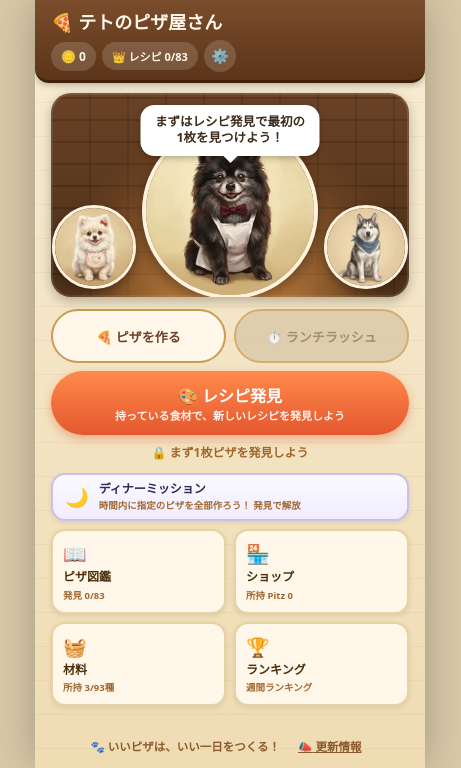
Test: HOME Global Overlay shell sizing (Dex/Shop/Inventory share one rule) › Dex overlay panel uses the shared shell: fixed header + one scrollable body, nothing else
Click the button "📖 ピザ図鑑 発見 0/83" at (138,572), box [51,529,226,614]
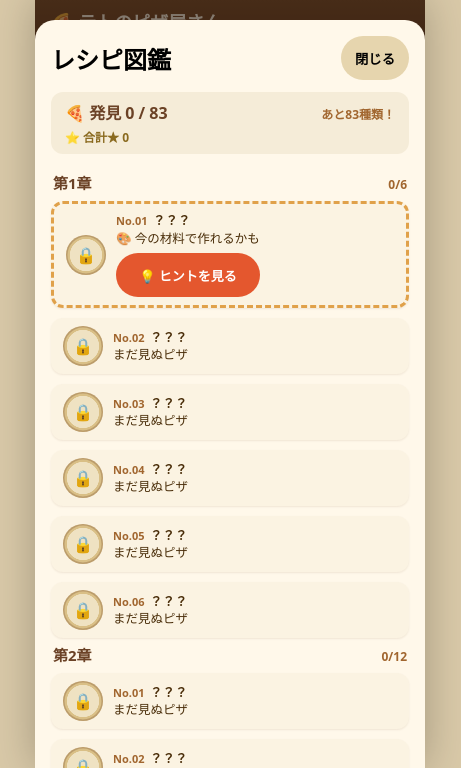
Result: the element with class "dex-overlay__panel" is shown
Result: the 1st element with class "dex-overlay__list" is shown at [51,201,409,638]
